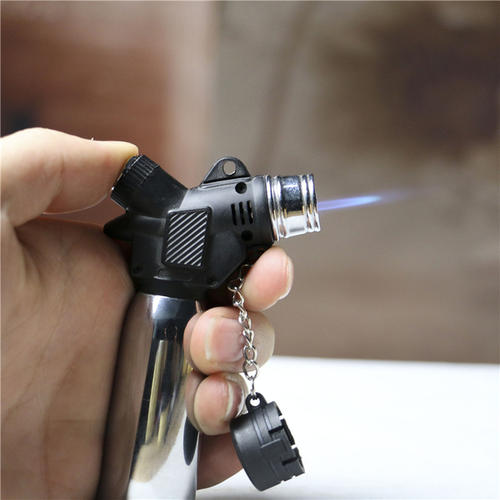fire: (318, 170, 390, 223)
